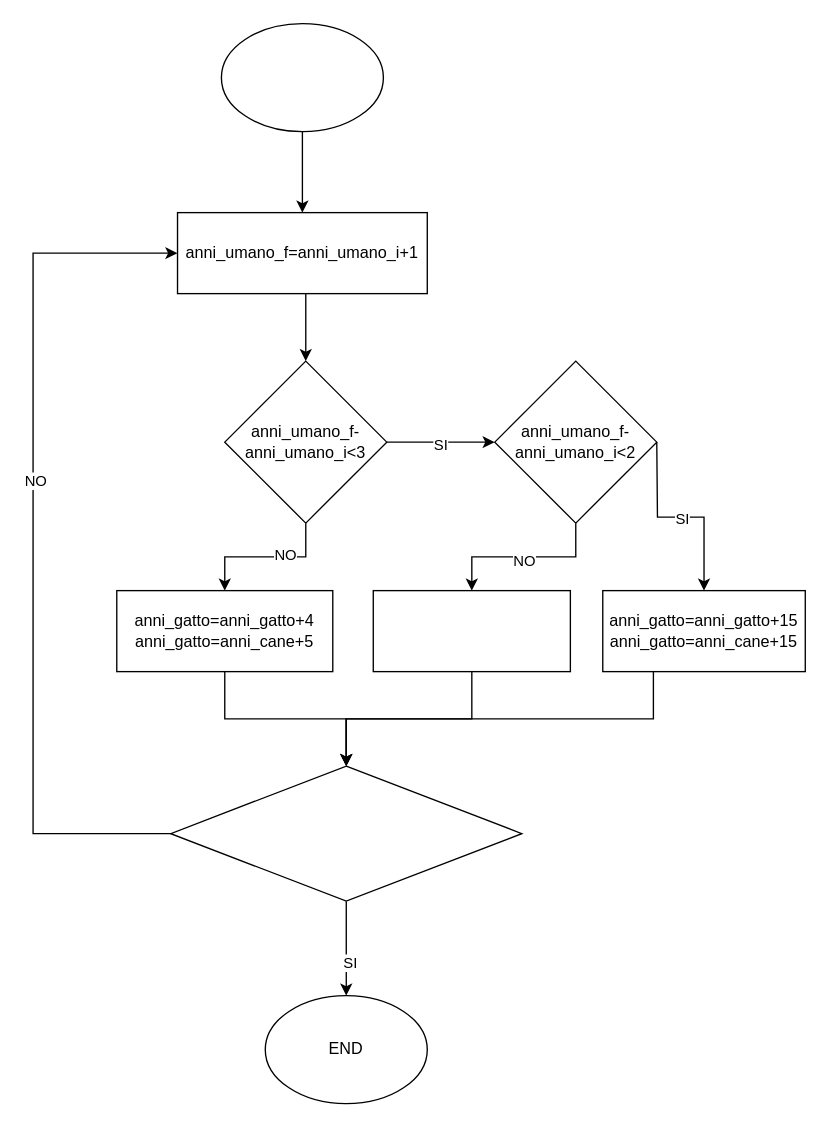
The diagram is 829 pixels wide and 1127 high, and some of its shapes have lost their labels. Each missing label, with the box of its shape:
anni_gatto=anni_gatto+9 anni_gatto=anni_cane+9: (372, 589, 570, 672)
anni_umano_f-anni_umano_i<delta_anni: (169, 765, 522, 901)
START: (220, 22, 383, 132)
